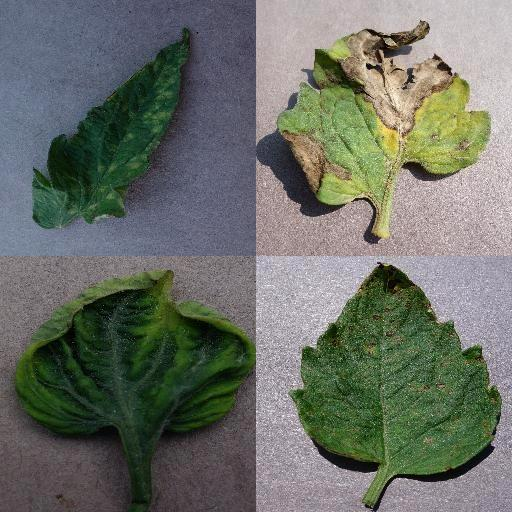Late Blight: (277, 16, 493, 208)
Leaf Mold: (31, 27, 193, 229)
Septoria: (290, 262, 504, 476)
Yellow Leaf Curl Virus: (15, 269, 256, 439)
